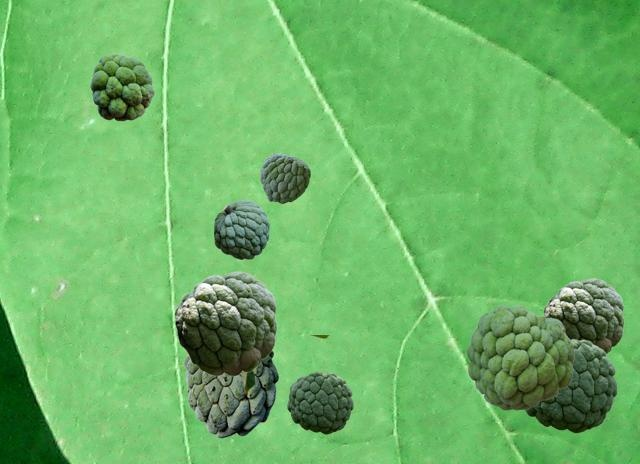atis: (183, 335, 328, 437), (466, 305, 573, 409), (174, 271, 276, 375), (524, 338, 616, 432), (543, 278, 623, 354), (90, 53, 153, 120), (287, 371, 352, 433), (214, 200, 268, 258), (260, 153, 309, 202)
